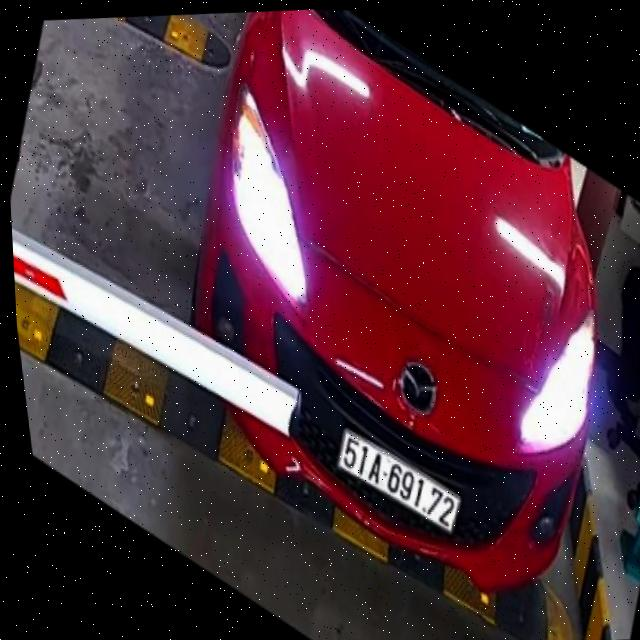car: (180, 9, 610, 604)
plate: (329, 419, 467, 539)
